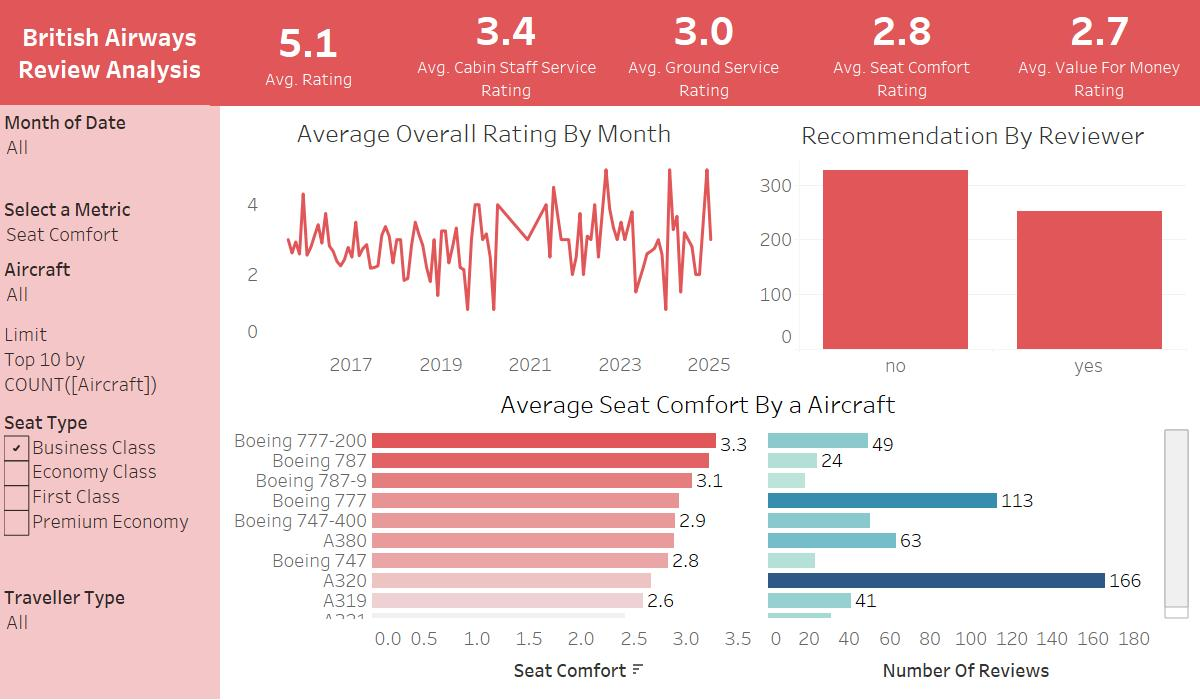

This screenshot's page, from the dashboard's own definition file:
{"tool":"tableau","page":{"name":"Dashboard 1","canvas":[1200,700],"ordinal":0},"visuals":[{"type":"text","box":[0,0,219,105]},{"type":"worksheet","title":"Summary","mark":"Automatic","box":[210,0,989,105]},{"type":"filter","title":"Line chart","param":"[federated.0uy0bel1f0gaa914y0srp1nziobb].[mn:Date:ok]","box":[0,104,220,87]},{"type":"worksheet","title":"Line chart","mark":"Automatic","rows":["Calculation_2024368086073733120"],"cols":["Date"],"box":[235,110,498,266]},{"type":"worksheet","title":"Recommendation","mark":"Automatic","rows":["Author"],"cols":["Recommended"],"box":[759,112,427,266]},{"type":"parameter","param":"[Parameters].[Parameter 1]","box":[0,191,220,60]},{"type":"filter","title":"Recommendation","param":"[federated.0uy0bel1f0gaa914y0srp1nziobb].[none:Aircraft:nk]","box":[0,251,220,153]},{"type":"worksheet","title":"Sheet 6","mark":"Automatic","rows":["Aircraft"],"cols":["Calculation_2024368086073733120","Author"],"box":[232,381,957,308]},{"type":"filter","title":"Recommendation","param":"[federated.0uy0bel1f0gaa914y0srp1nziobb].[none:Seat Type:nk]","box":[0,404,220,175]},{"type":"filter","title":"Recommendation","param":"[federated.0uy0bel1f0gaa914y0srp1nziobb].[none:Traveller Type:nk]","box":[0,579,220,70]}]}

Visuals, with their boxes in screenshot pixels (x1, y1, x2, y2), scaled from the page's 1200x700 canvas onto the 1200x700 screenshot:
text: select_region(0, 0, 219, 105)
"Summary" worksheet: select_region(210, 0, 1199, 105)
"Line chart" filter: select_region(0, 104, 220, 191)
"Line chart" worksheet: select_region(235, 110, 733, 376)
"Recommendation" worksheet: select_region(759, 112, 1186, 378)
parameter: select_region(0, 191, 220, 251)
"Recommendation" filter: select_region(0, 251, 220, 404)
"Sheet 6" worksheet: select_region(232, 381, 1189, 689)
"Recommendation" filter: select_region(0, 404, 220, 579)
"Recommendation" filter: select_region(0, 579, 220, 649)
